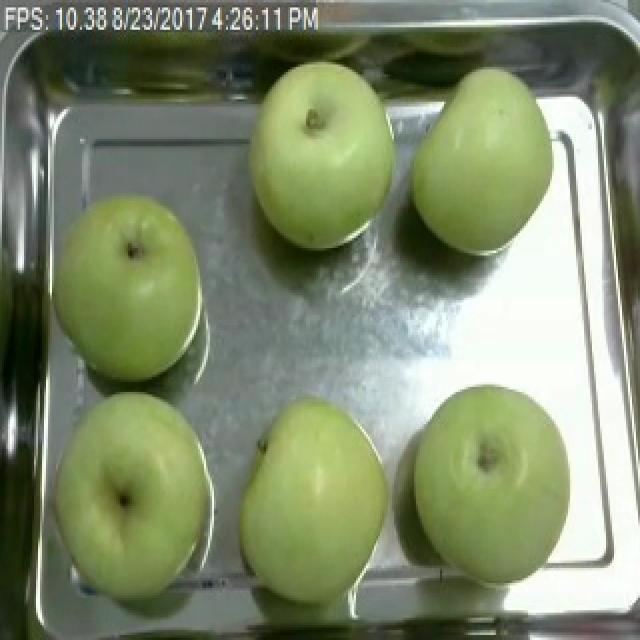50-_ripeness: (226, 386, 393, 608), (52, 389, 216, 606), (51, 195, 230, 382), (412, 378, 571, 581), (240, 59, 388, 248), (428, 51, 552, 264)
